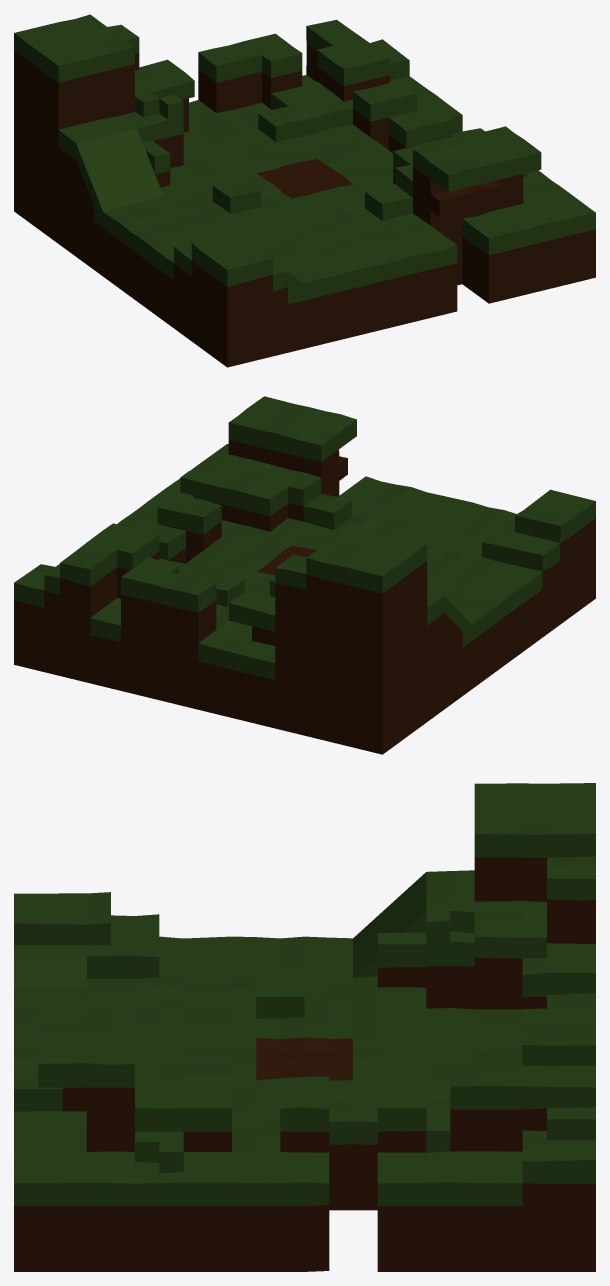
Rendered from TerrainWhoYouCanFinish.fbx.
3 views of the same model, one above another, from view 1: azimuth 30°, elevation 25°; view 2: azimuth 150°, elevation 25°; view 3: azimuth 270°, elevation 25° (orthographic). The views are drawn at different scales.
Parts seen in each view (by area): view 1: Cube; view 2: Cube; view 3: Cube.
Part boxes in pixels (x1,y1,x2,y2): Cube: (14, 14, 595, 367); Cube: (14, 396, 595, 754); Cube: (14, 783, 595, 1271).
Size of the model in its own units: 2397 by 1110 by 2401.
